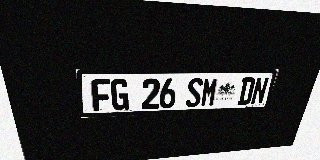2: (142, 78, 160, 109)
6: (159, 78, 177, 108)
D: (237, 77, 256, 105)
F: (91, 79, 111, 111)
G: (110, 79, 129, 111)
M: (200, 78, 219, 107)
N: (250, 77, 270, 104)
S: (185, 78, 204, 107)
